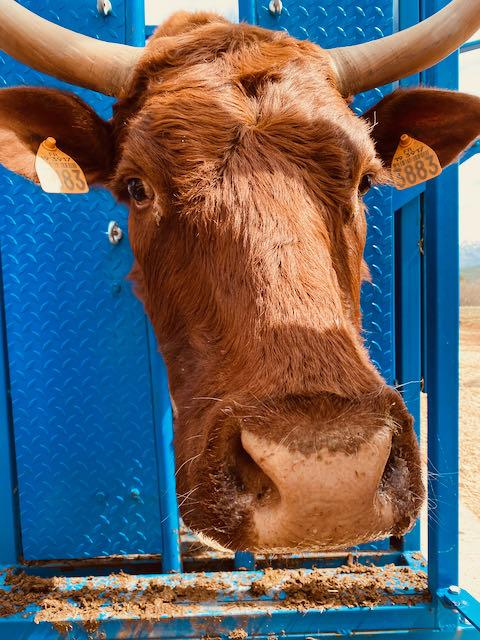muzzles: (158, 405, 431, 558)
